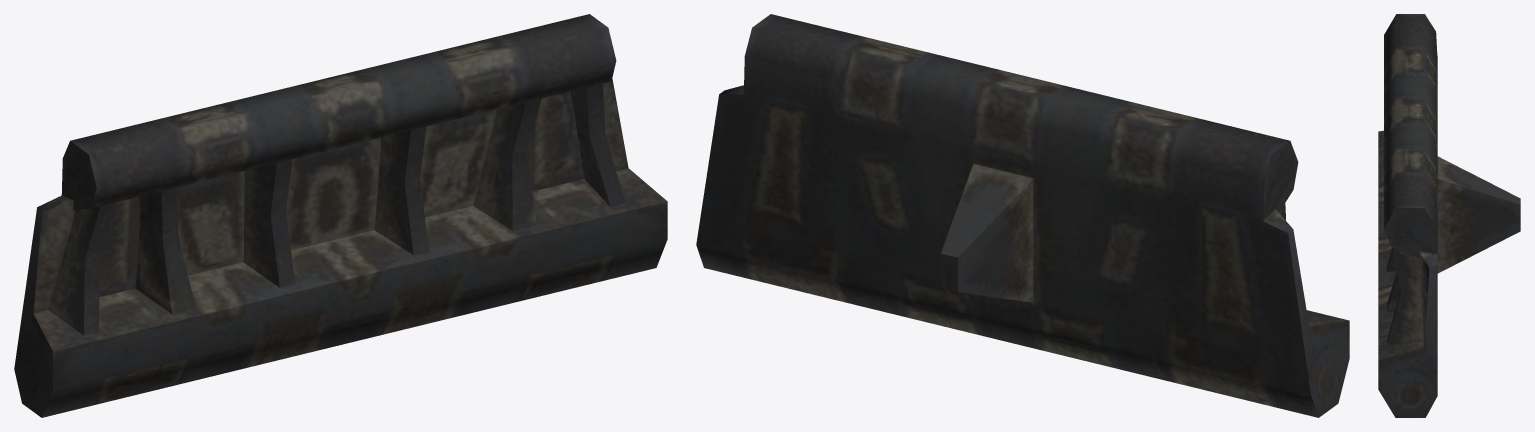
3 renders of one model, left to right at view 1: azimuth 30°, elevation 25°; view 2: azimuth 150°, elevation 25°; view 3: azimuth 270°, elevation 25°, orthographic. The views are drawn at different scales.
Visible parts, largest first — view 1: set_0_group_0; view 2: set_0_group_0; view 3: set_0_group_0.
Boxes of the visible parts, box(x1,y1,x2,y2) form: set_0_group_0: box(14, 14, 667, 417); set_0_group_0: box(696, 14, 1349, 417); set_0_group_0: box(1378, 14, 1520, 417).
Size of the model in its own units: 0.5301 by 0.2073 by 0.1391.
Materials: 1 (1 with a texture image).
